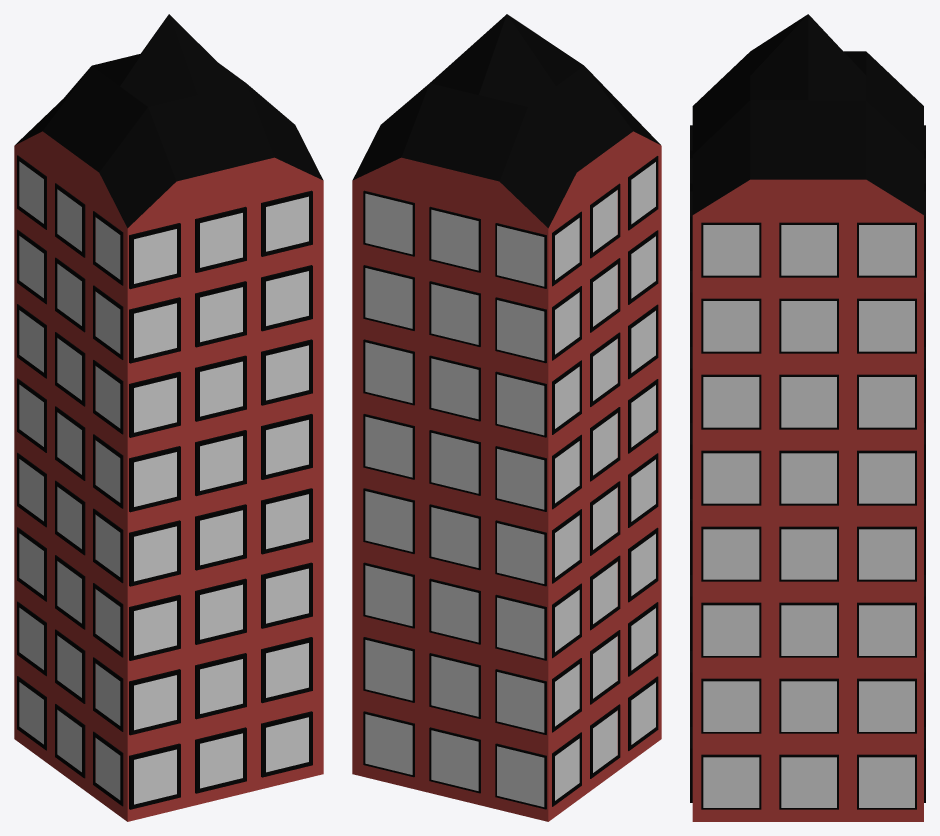
The model's file is Tower1.fbx.
3 views of the same model, side by side, from view 1: azimuth 30°, elevation 25°; view 2: azimuth 150°, elevation 25°; view 3: azimuth 270°, elevation 25° (orthographic). The views are drawn at different scales.
Visible parts, largest first — view 1: Cube.013, Window Base.007, Window Base.005; view 2: Cube.013, Window Base.006, Window Base.005; view 3: Cube.013, Window Base.004, Window Base.007, Window Base.006.
Boxes of the visible parts, <box> form: Cube.013: <box>14,14,323,821</box>; Window Base.007: <box>129,190,312,809</box>; Window Base.005: <box>17,155,123,806</box>; Cube.013: <box>352,14,661,821</box>; Window Base.006: <box>363,190,546,809</box>; Window Base.005: <box>552,156,658,806</box>; Cube.013: <box>692,14,923,821</box>; Window Base.004: <box>701,222,916,809</box>; Window Base.007: <box>690,125,692,802</box>; Window Base.006: <box>924,125,925,802</box>.
Size of the model in its own units: 202 by 724 by 204.
